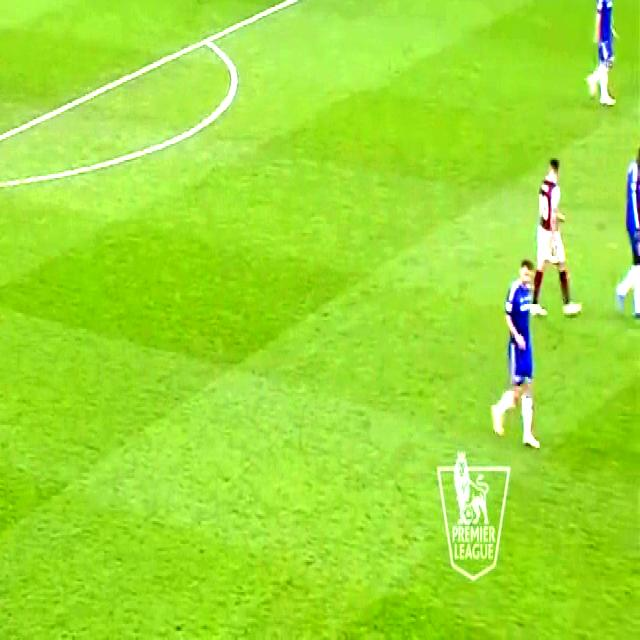soccer-player: (486, 251, 546, 457), (524, 146, 577, 327), (584, 0, 631, 116), (614, 131, 640, 324)
